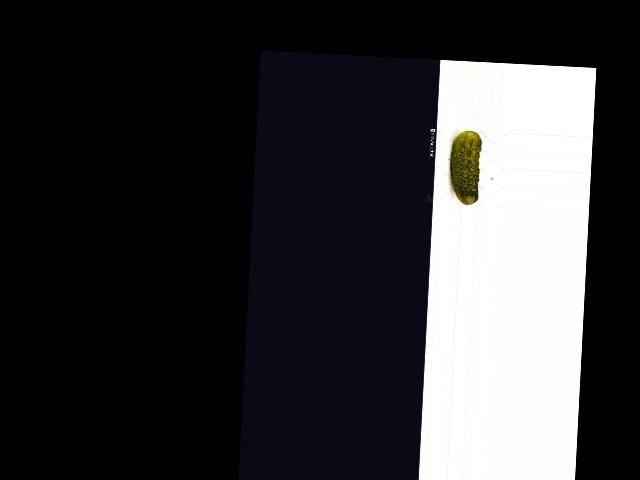cucumber: (448, 130, 482, 206)
